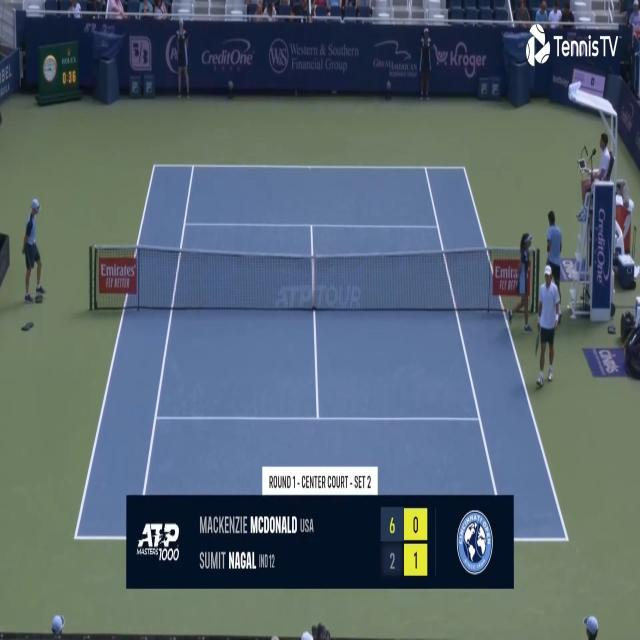tennis-player: (534, 261, 560, 397)
